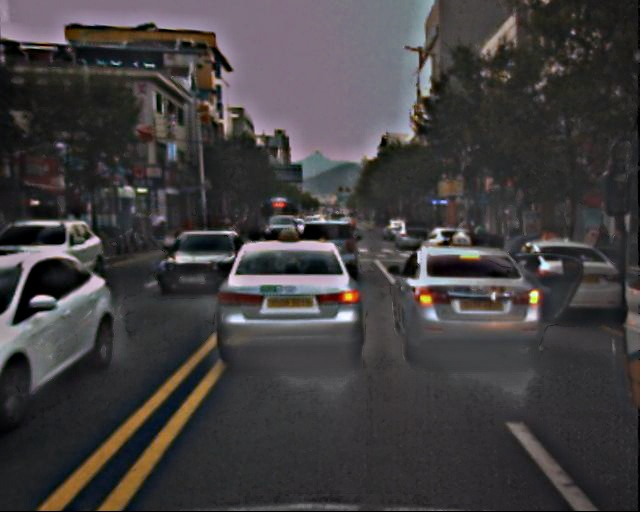person: (518, 257, 551, 337), (501, 226, 533, 303), (124, 208, 169, 248), (225, 210, 261, 247)
